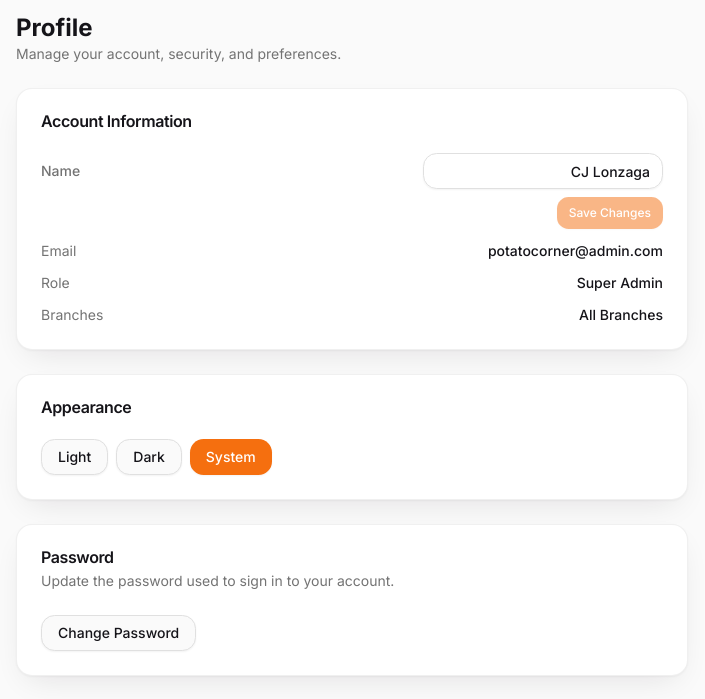
Test: ProfilePageContent — Name field › Save Changes is enabled once the name is edited
The image size is (705, 699).
Replace the text in the field labelled "Name" with "New Name" at (543, 171), box x1=423 y1=153 x2=663 y2=189
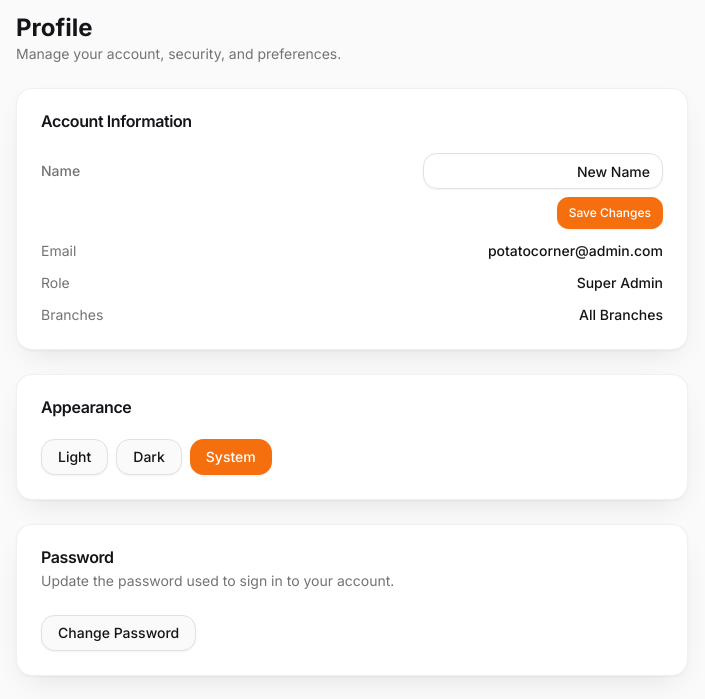
Expected: the button "Save Changes" is enabled, x1=557 y1=197 x2=663 y2=229
